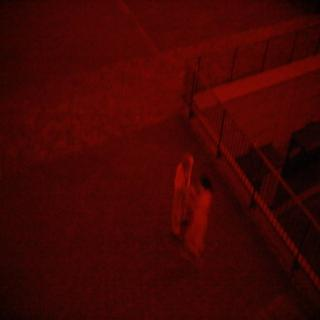person: (167, 147, 206, 246), (190, 174, 221, 260)
